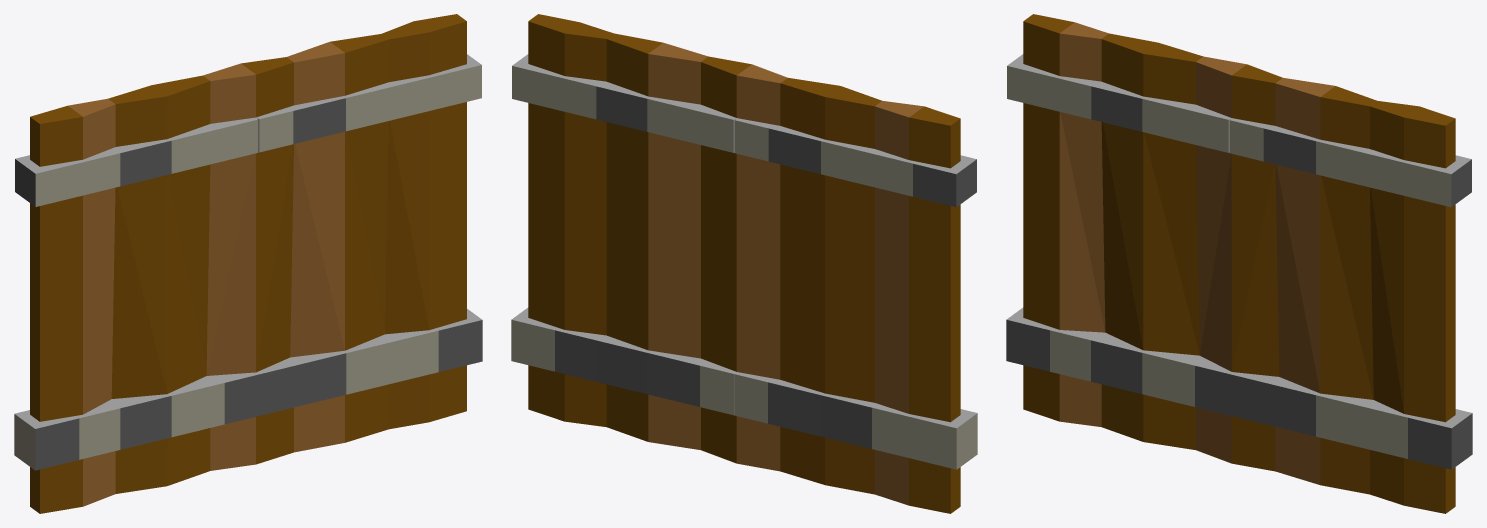
File: Puerta1.fbx
3 renders of one model, left to right at view 1: azimuth 30°, elevation 25°; view 2: azimuth 150°, elevation 25°; view 3: azimuth 330°, elevation 25°, orthographic.
Parts seen in each view (by area): view 1: pCube12; view 2: pCube12; view 3: pCube12.
Part boxes in pixels (x1,y1,x2,y2): pCube12: (14, 14, 482, 513); pCube12: (511, 14, 977, 513); pCube12: (1006, 14, 1472, 513).
Size of the model in its own units: 20.67 by 17.22 by 1.68.
